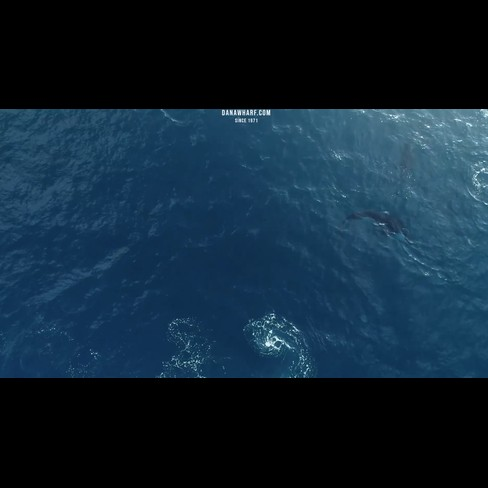orca: (323, 189, 425, 254)
